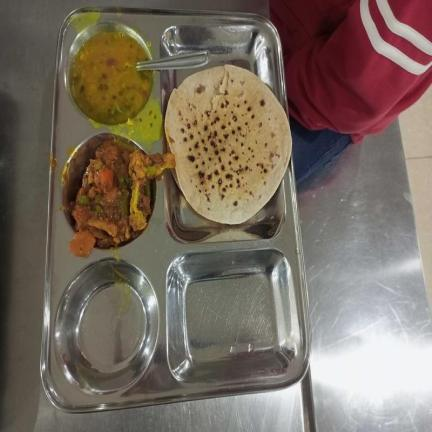Chana Dal: (69, 29, 152, 124)
Mix Veg: (66, 140, 175, 259)
Plate: (41, 6, 312, 414)
Roti: (165, 64, 292, 224)
